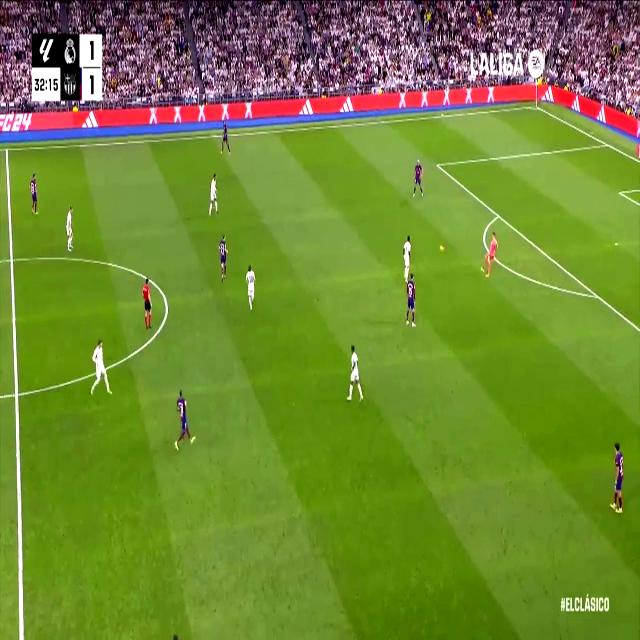bigarea_bottom_inner: (635, 318, 640, 341)
bigarea_top_inner: (433, 156, 441, 172)
bigarea_top_outter: (602, 136, 610, 149)
bottom_arc_area_intersection: (592, 286, 602, 304)
corner: (532, 100, 540, 111)
halfcircle_bottom: (10, 380, 22, 407)
halfcircle_top: (5, 247, 17, 271)
midline_top_intersection: (4, 144, 10, 155)
smallarea_top_inner: (616, 185, 624, 199)
top_arc_area_intersection: (494, 207, 502, 222)
